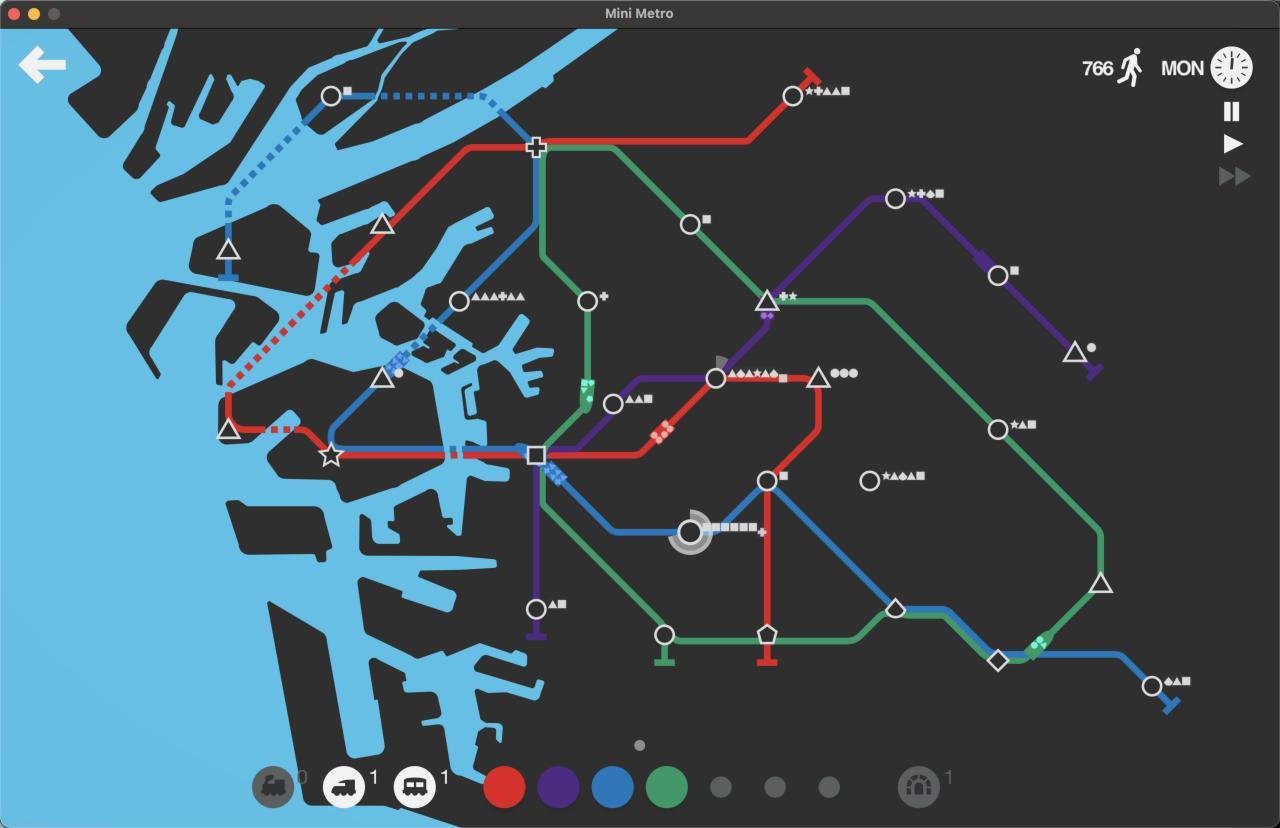CIRCLE: (677, 518, 704, 546), (679, 213, 702, 235), (756, 470, 779, 492), (781, 85, 804, 107), (525, 598, 547, 621), (987, 264, 1009, 287), (987, 419, 1010, 441), (1141, 674, 1163, 697), (448, 290, 470, 312), (885, 188, 907, 210), (859, 470, 881, 492), (577, 291, 599, 312), (320, 85, 342, 106), (654, 624, 675, 646), (603, 393, 624, 414), (705, 368, 726, 389)
CROSS: (525, 137, 547, 158)
GEM: (986, 649, 1009, 673)
PENTAGON: (756, 624, 778, 645)
SQUARE: (526, 445, 547, 465)
STAR: (317, 444, 343, 468)
TRIANGLE: (753, 287, 779, 314), (1061, 339, 1089, 364), (805, 365, 831, 390), (368, 212, 396, 235), (370, 364, 395, 389), (218, 417, 242, 442), (215, 237, 241, 260), (1087, 572, 1114, 594)
WEDGE: (885, 597, 906, 619)
